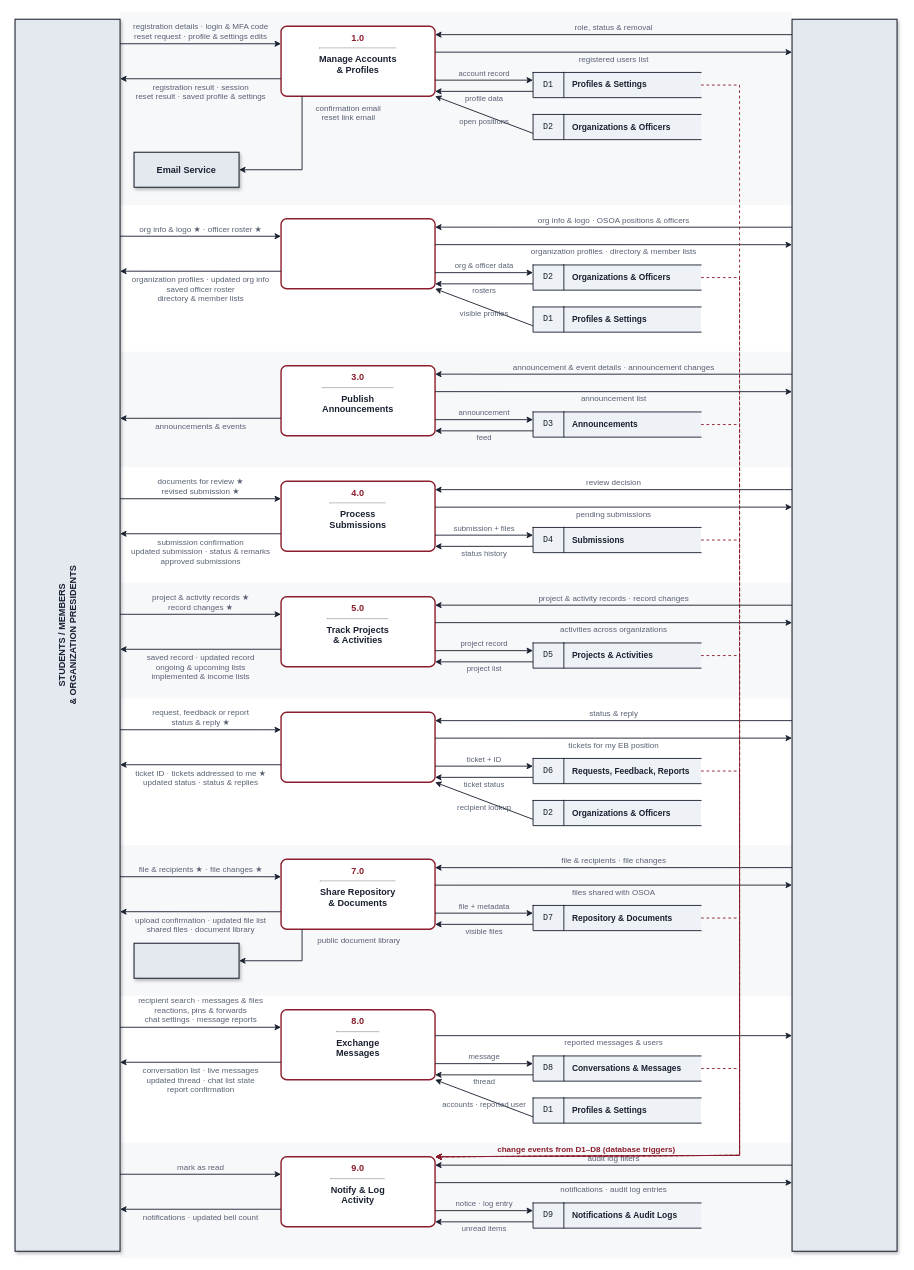
Some shapes in this 914 by 1270 pixel diagram are drawn without their labels. The shapes that lost their labels are listed below. From the top down, each one's centre as x and y in pixels, then its label:
At point 357,253: "2.0 Manage Organizations & Directory".
At point 844,636: "OSOA EXECUTIVE BOARD".
At point 357,747: "6.0 Route Requests, Feedback & Reports".
At point 186,961: "Guest (no account)".
